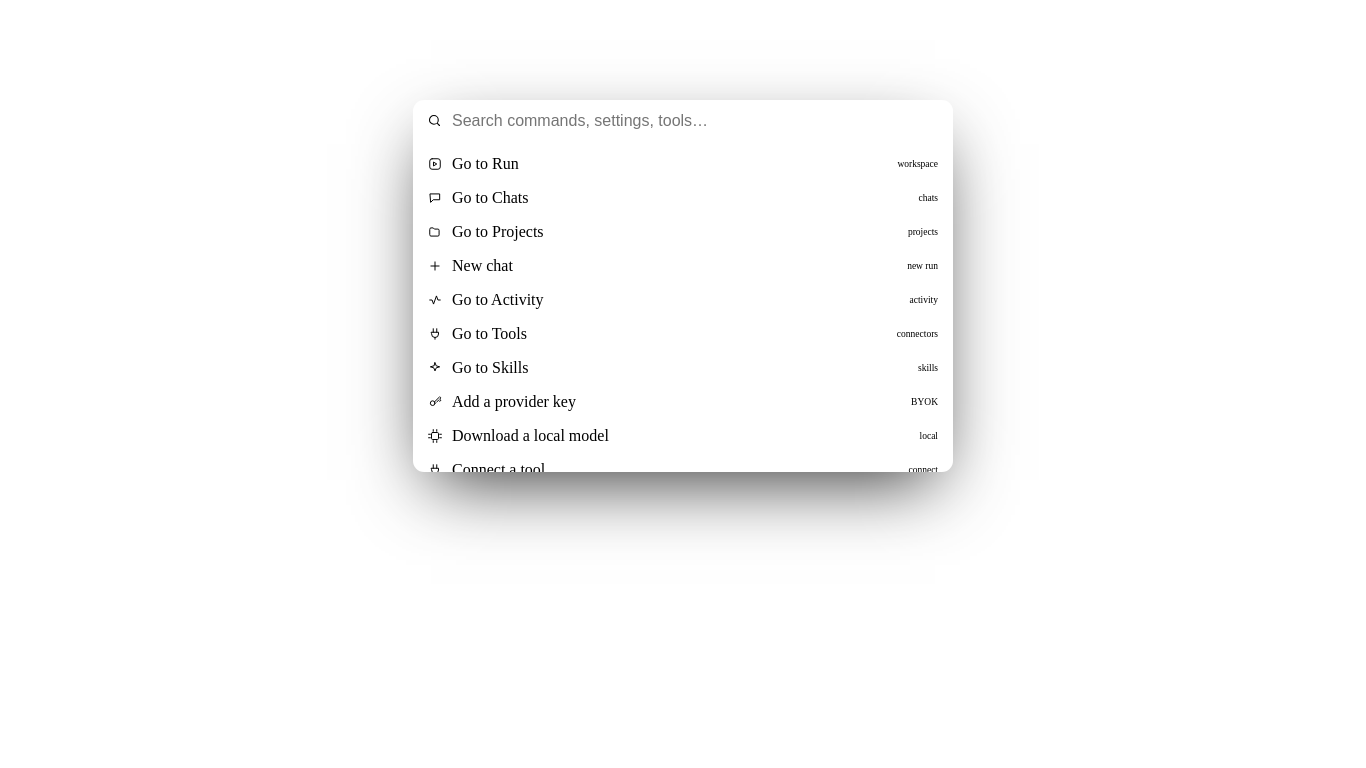
<CommandPalette> › renders the 'No matches.' state when nothing matches (commands + search)
// A query that matches no static command and returns no search hits.
In the dropdown with test id "command-palette-input": {"x": 696, "y": 121} [452,112,939,130], type "zzqqxx"
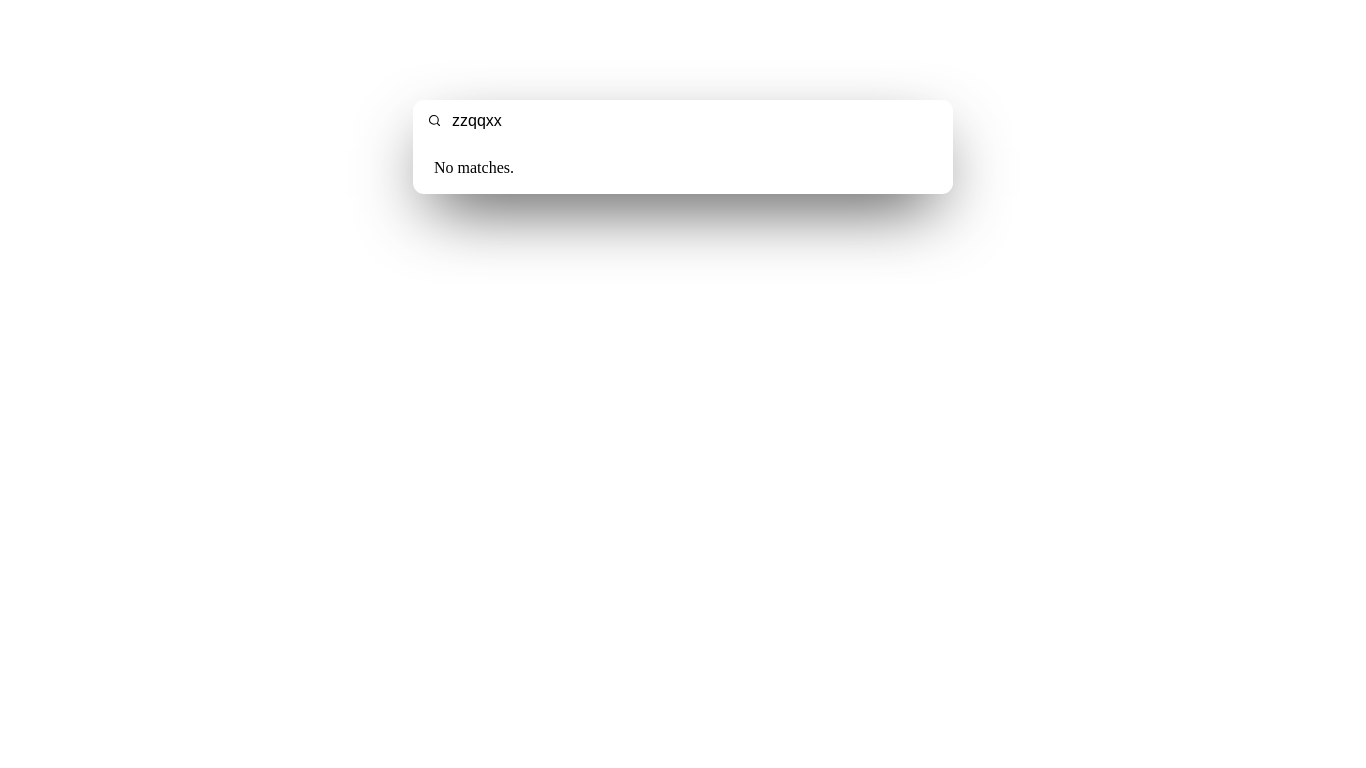
Check: the list item with test id "palette-no-results" reads "No matches.", box [434,159,514,176]
